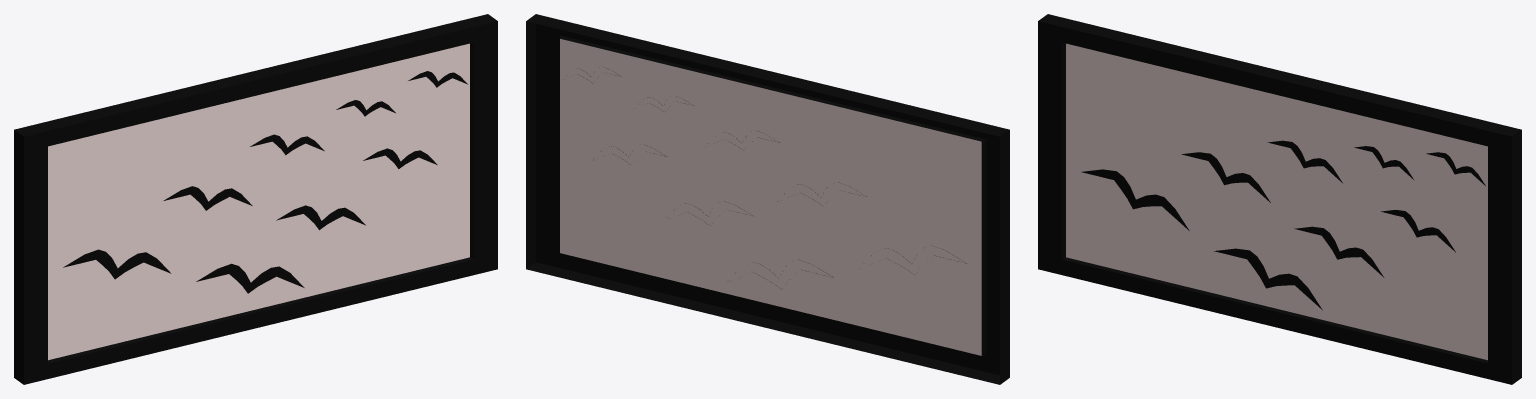
File: Living_Room_picture.fbx
3 renders of one model, left to right at view 1: azimuth 30°, elevation 25°; view 2: azimuth 150°, elevation 25°; view 3: azimuth 330°, elevation 25°, orthographic.
Parts seen in each view (by area): view 1: Living_Room_picture; view 2: Living_Room_picture; view 3: Living_Room_picture.
Boxes of the visible parts, <box> form: Living_Room_picture: <box>14,14,497,384</box>; Living_Room_picture: <box>526,14,1009,384</box>; Living_Room_picture: <box>1038,14,1521,384</box>.
Bounding box in the file's own units: 198 × 7.06 × 98.85.
